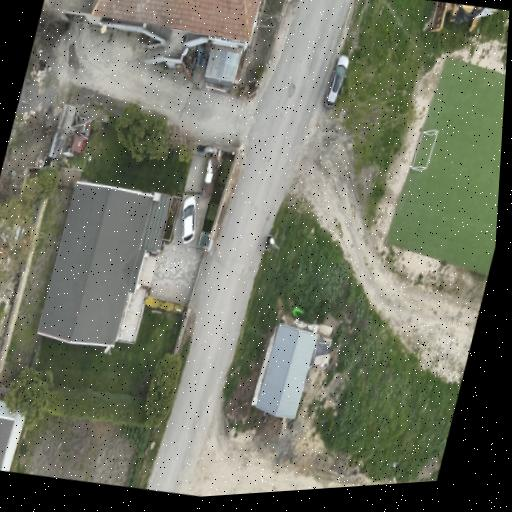car: (323, 56, 348, 108), (181, 196, 195, 244)
harvester: (429, 2, 496, 31)
